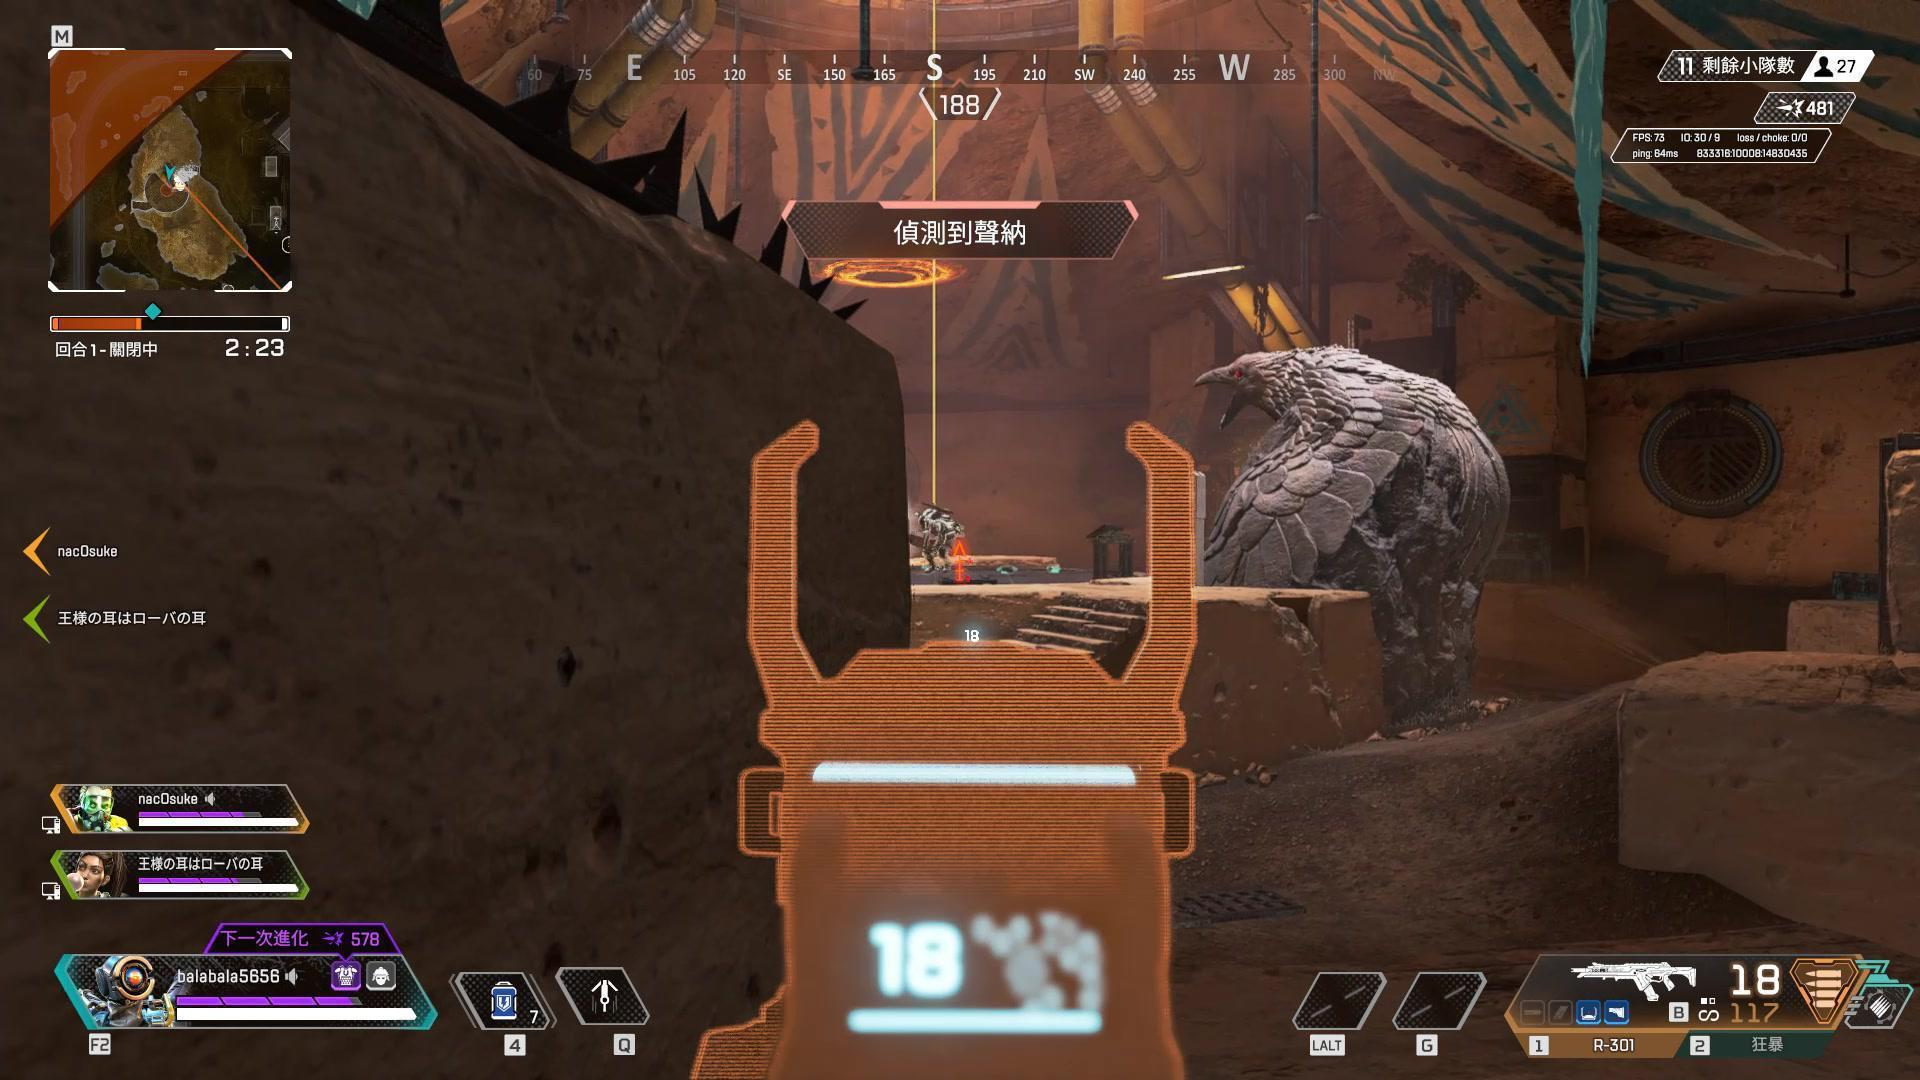avatar: (913, 506, 962, 574)
